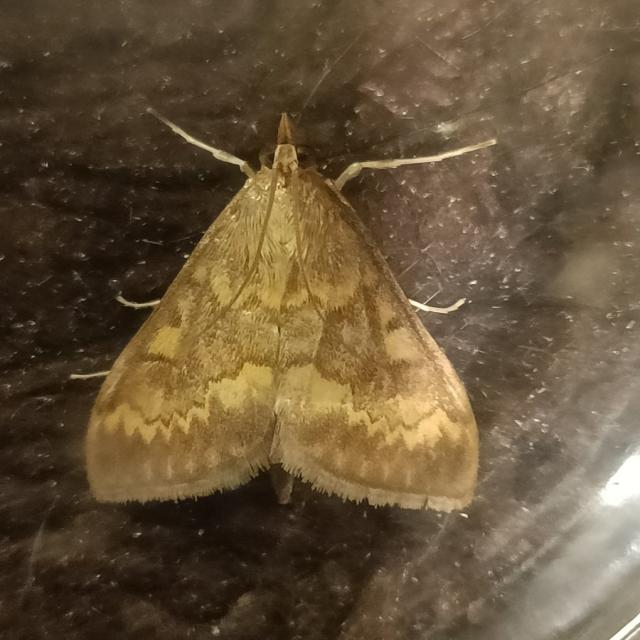cornborer-Adult-: (26, 64, 523, 540)
